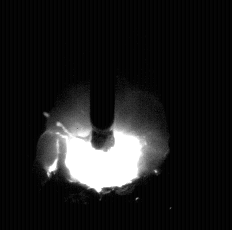arame: (91, 0, 116, 151)
poca: (37, 0, 169, 230)
